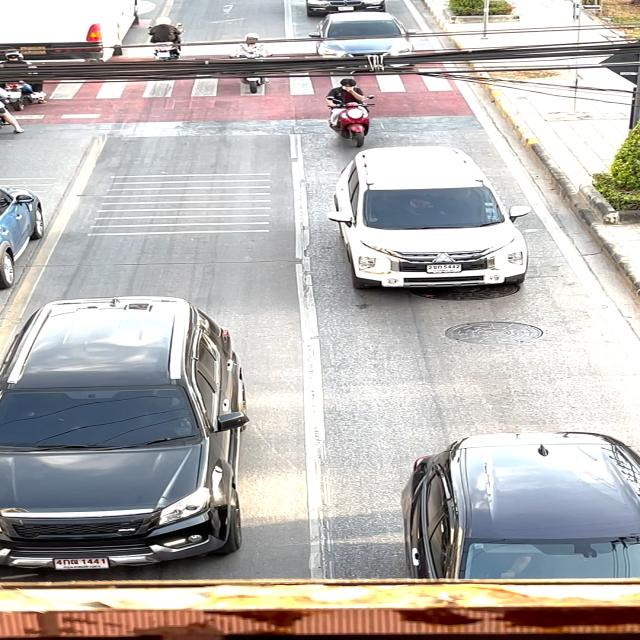car: (0, 280, 267, 580), (388, 418, 640, 582), (314, 136, 554, 302), (312, 14, 424, 70), (300, 0, 402, 17)
